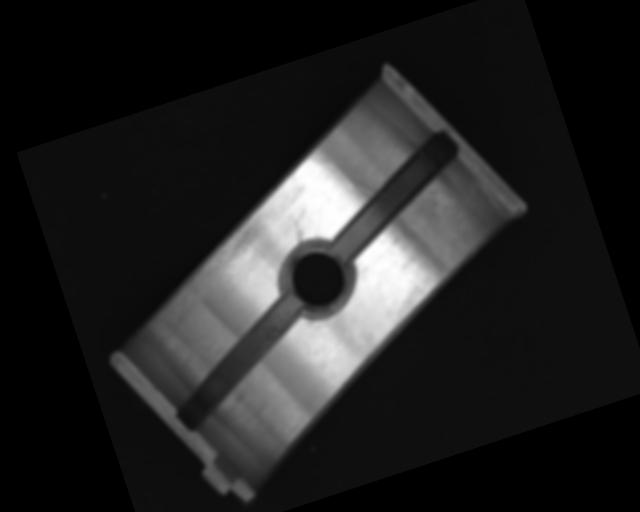gap: (151, 291, 326, 433), (312, 131, 477, 260)
hole: (273, 234, 362, 324)
nick: (307, 143, 354, 199), (290, 219, 305, 243)
scratch: (132, 211, 284, 330)
